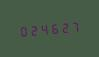four: (38, 21, 47, 37)
seven: (68, 18, 77, 34)
six: (48, 20, 57, 36)
two: (27, 21, 36, 38), (58, 19, 67, 35)
zero: (17, 22, 26, 38)
